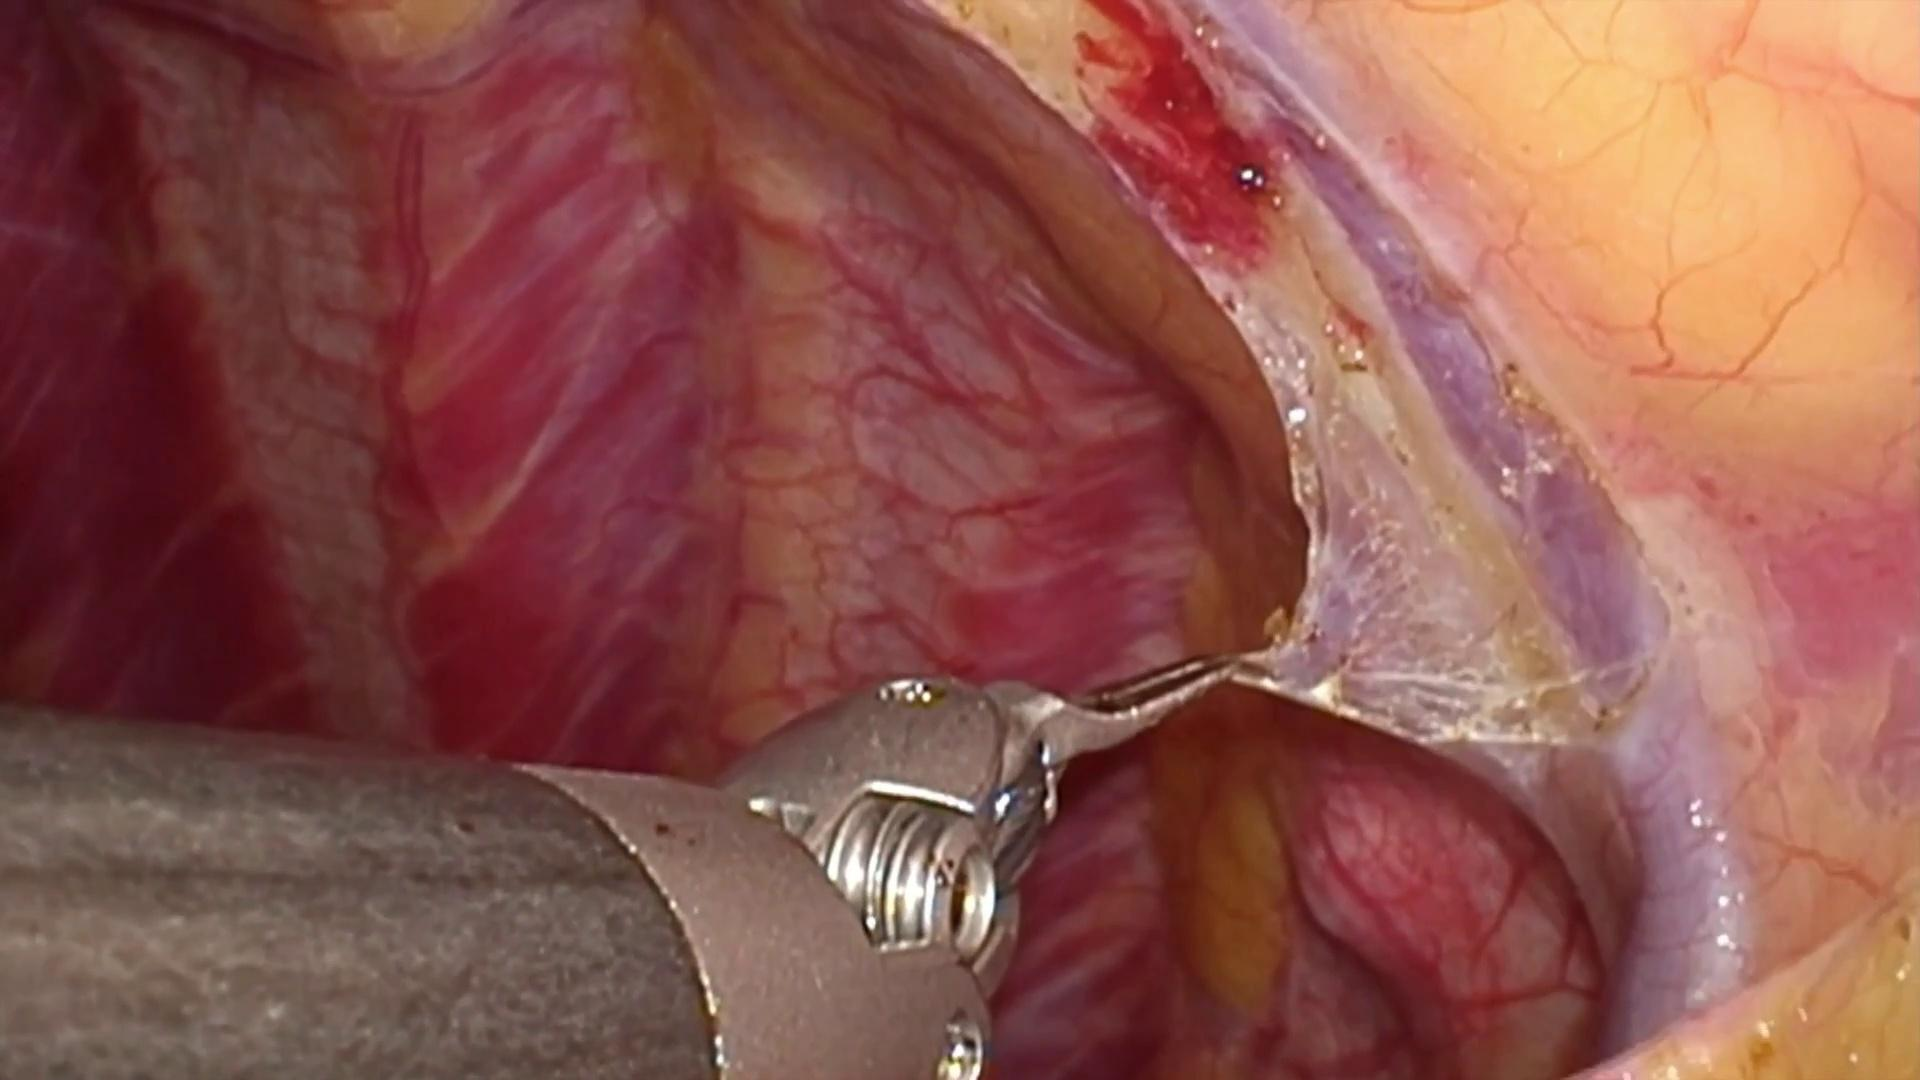Debakey: (980, 633, 1240, 806)
